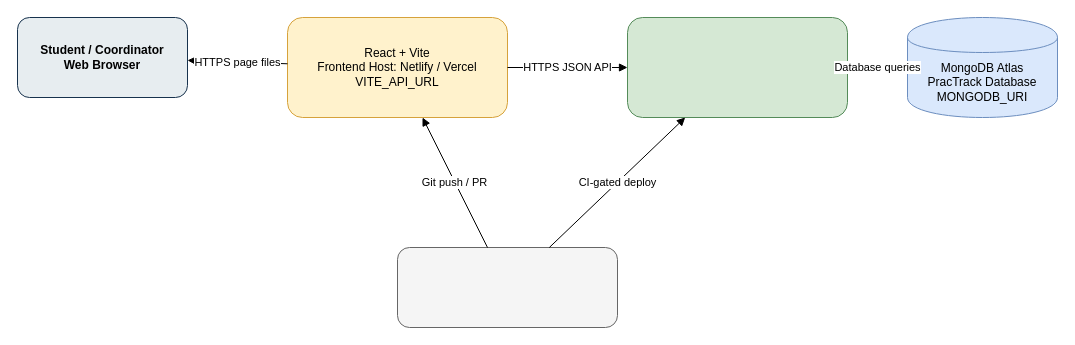
Some shapes in this 1075 by 345 pixel diagram are drawn without their labels. The shapes that lost their labels are listed below. From the top down, each one's box as (x1, y1, x2, y2) in pixels, then its label:
(626, 16, 848, 118): Node.js + Express Backend Host: Render PORT, CLIENT_URL
(396, 246, 618, 328): GitHub Repository Source + CI workflow
